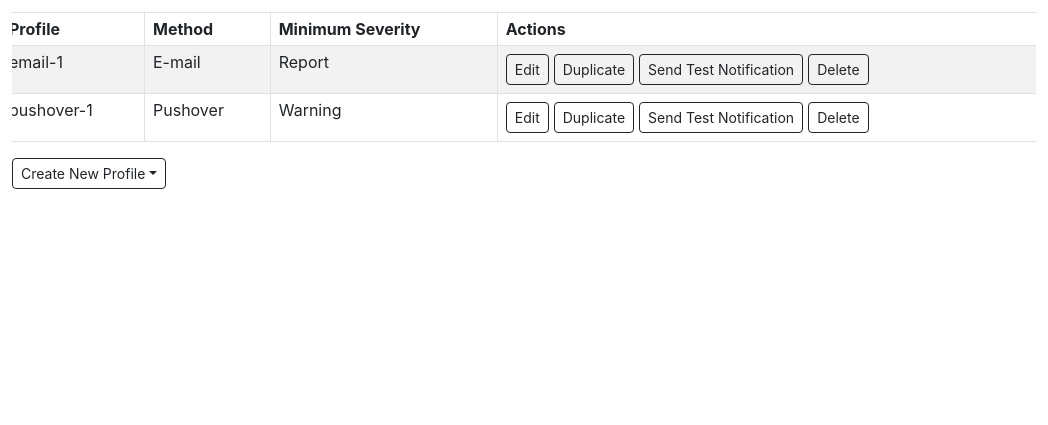
it: NotificationEditor › duplicates profile correctly
# Click Duplicate button for first profile
Click the button "Duplicate" in the row of "email-1" at (594, 70), box [554,54,634,85]
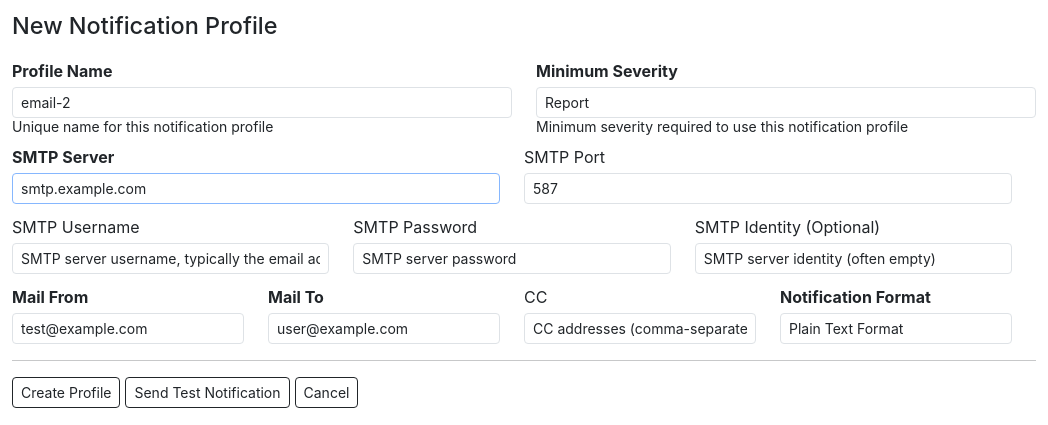
Expected: the heading "New Notification Profile" is shown, [12,11,278,40]
